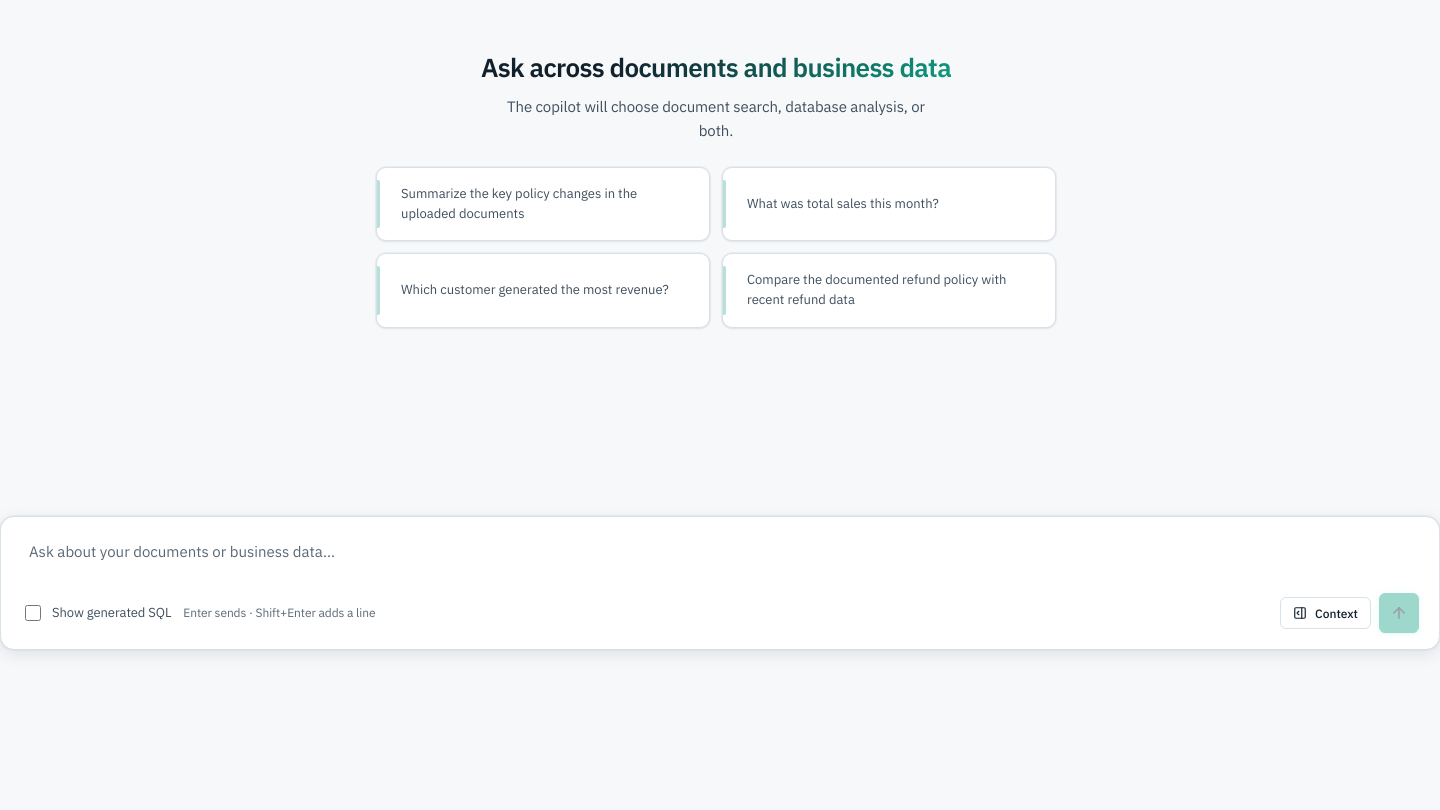
it: CopilotPage › renders a hybrid-route answer
Type "compare" into the text box labelled "Ask about your documents or business data…". click: (720, 557)
box: [21,533,1419,581]
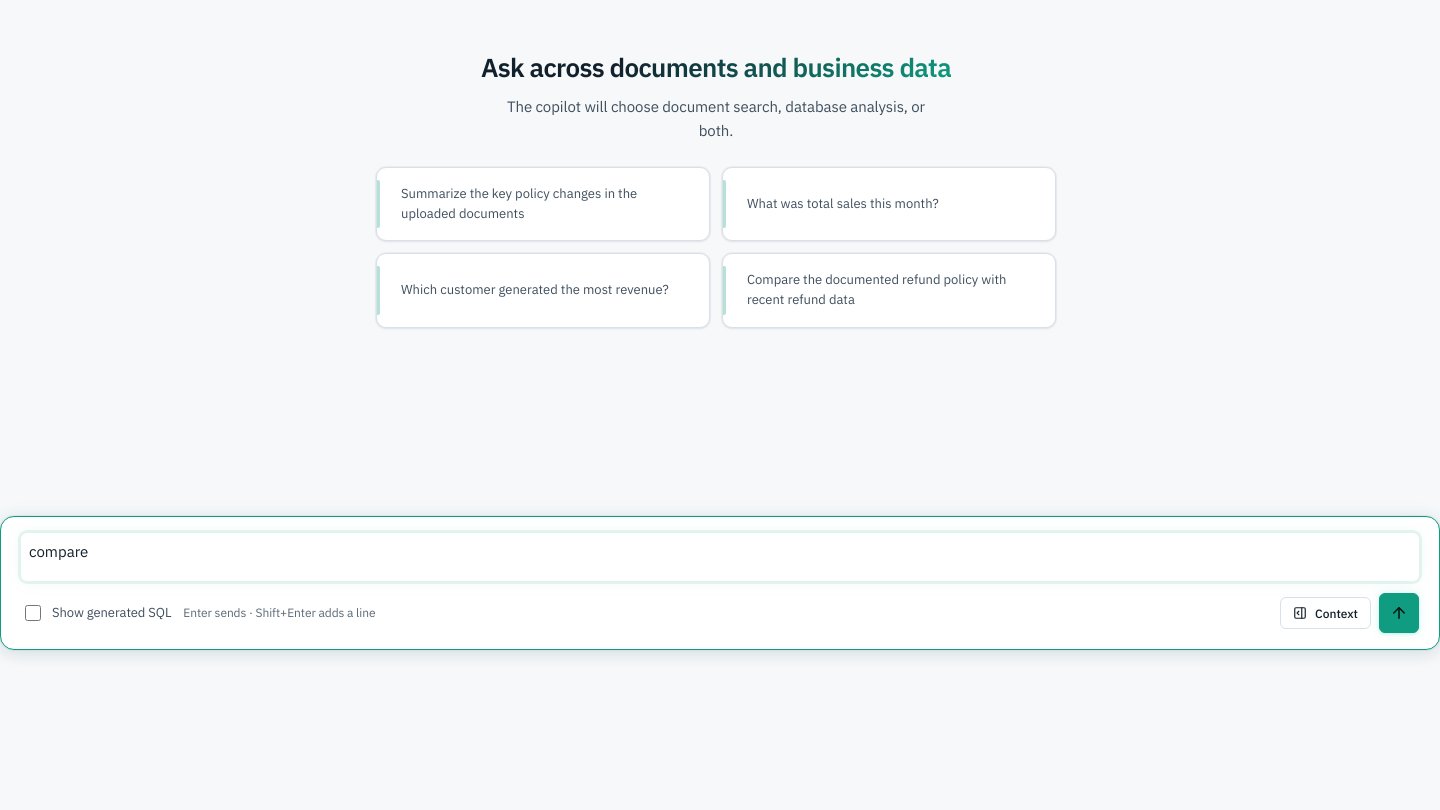
Click the button named "send question". click: click(1399, 613)
box: [1379,593,1419,633]
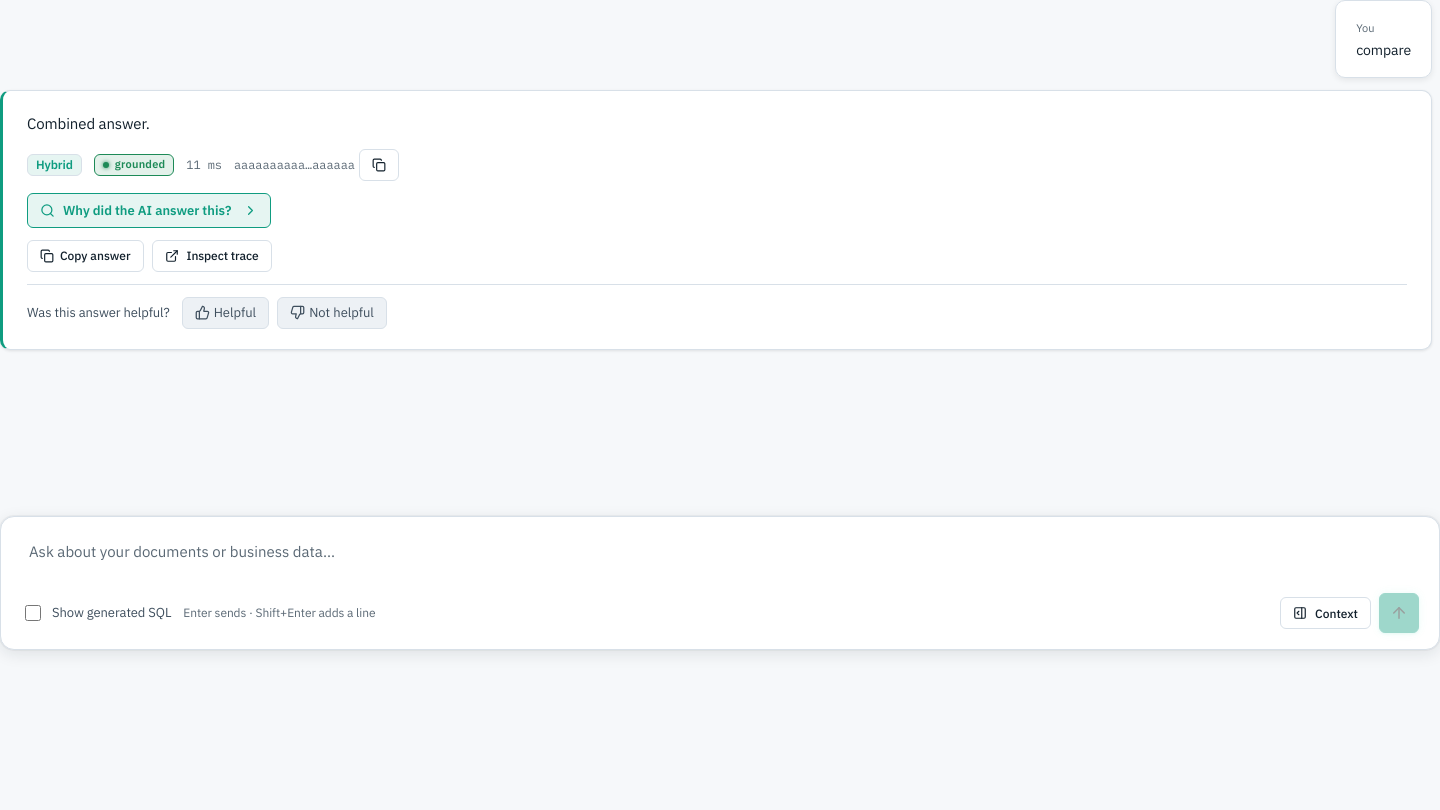
Check: the text "Hybrid" is shown, box [27,154,82,176]
